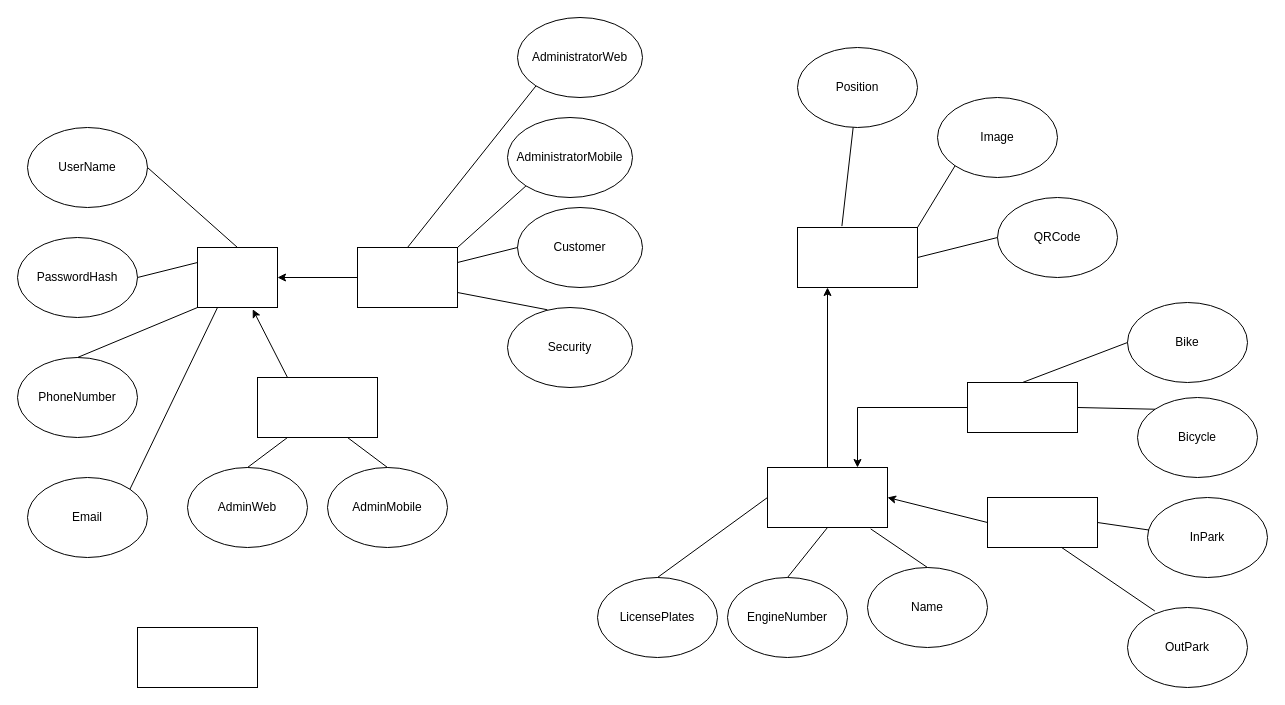
Some shapes in this 1285 by 705 pixel diagram are drawn without their labels. Each missing label, with the box of its shape:
Agency: (136, 626, 258, 688)
Parking: (796, 226, 918, 288)
Roles: (356, 246, 458, 308)
User: (196, 246, 278, 308)
UserTypes: (256, 376, 378, 438)
Vehicle: (766, 466, 888, 528)
VehicleStatus: (986, 496, 1098, 548)
VehicleType: (966, 382, 1078, 432)
